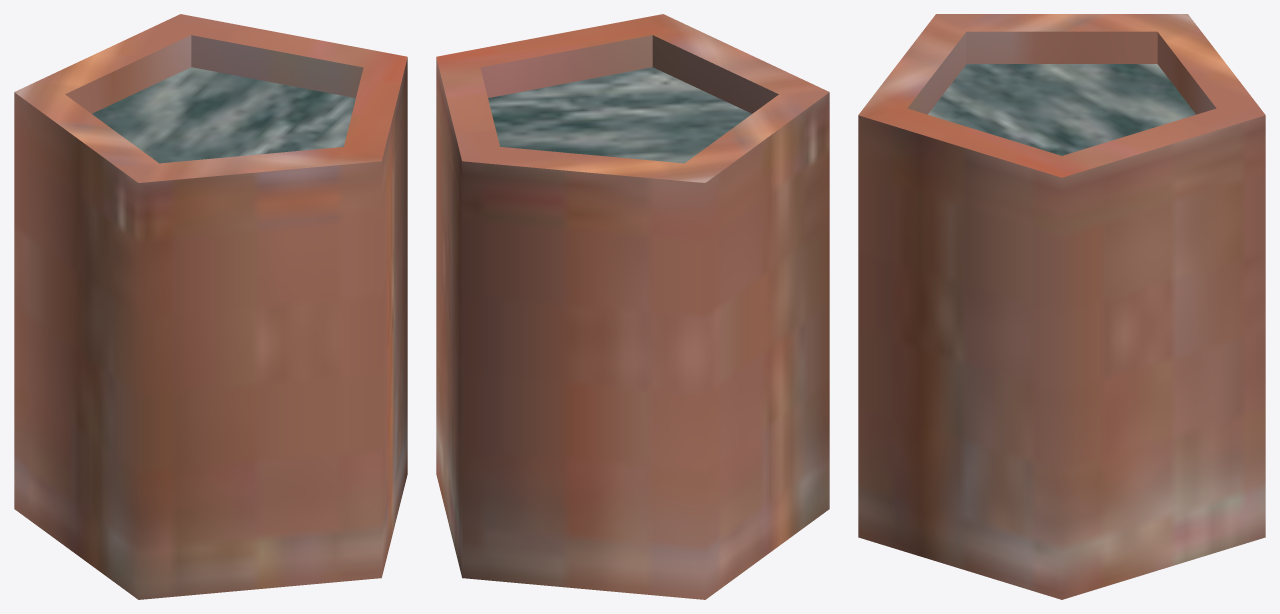
Rendered from Barril.fbx.
3 renders of one model, left to right at view 1: azimuth 30°, elevation 25°; view 2: azimuth 150°, elevation 25°; view 3: azimuth 270°, elevation 25°, orthographic.
Visible parts, largest first — view 1: Cylinder001, Object; view 2: Cylinder001, Object; view 3: Cylinder001, Object.
Boxes of the visible parts, left/top/right/bottom form: Cylinder001: left=14, top=14, right=407, bottom=599; Object: left=92, top=67, right=355, bottom=163; Cylinder001: left=436, top=14, right=829, bottom=599; Object: left=488, top=67, right=751, bottom=163; Cylinder001: left=858, top=14, right=1265, bottom=599; Object: left=928, top=64, right=1195, bottom=155.
Bounding box in the file's own units: 832 × 1000 × 875.
Materials: 2 (2 with a texture image).
